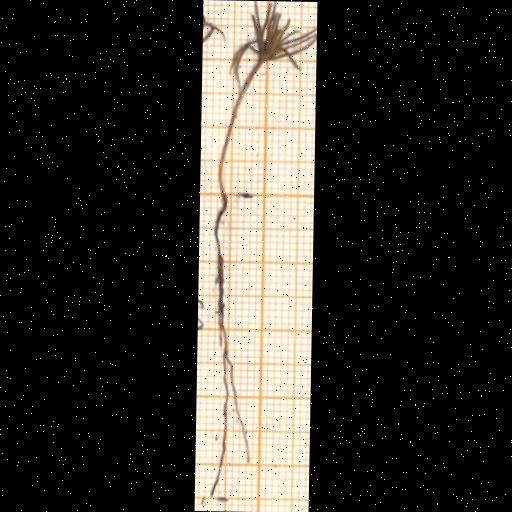flowerPinus: (231, 1, 316, 79)
rootPinus: (212, 205, 249, 496)
stemPinus: (219, 61, 263, 196)
